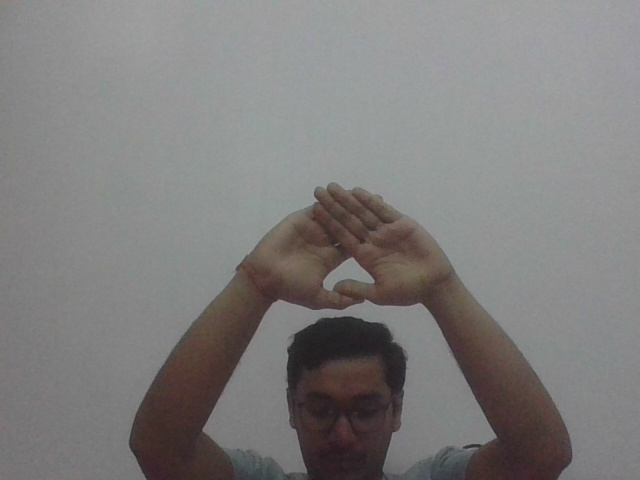W: (249, 183, 454, 314)
